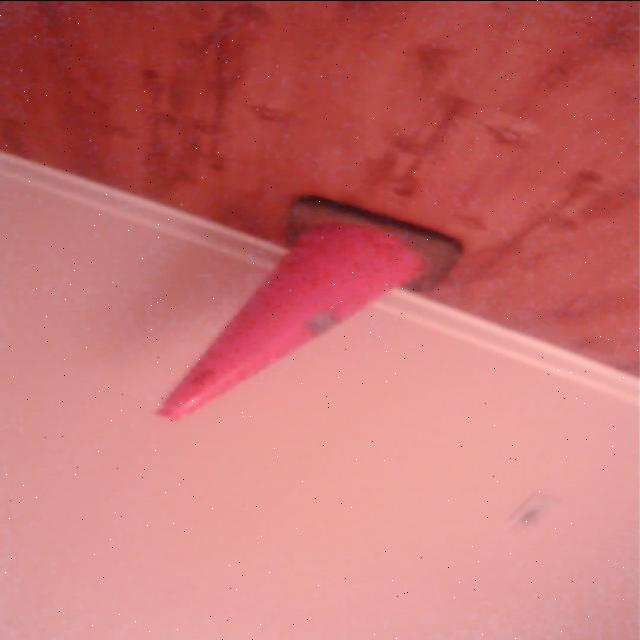traffic cone: (148, 191, 473, 423)
